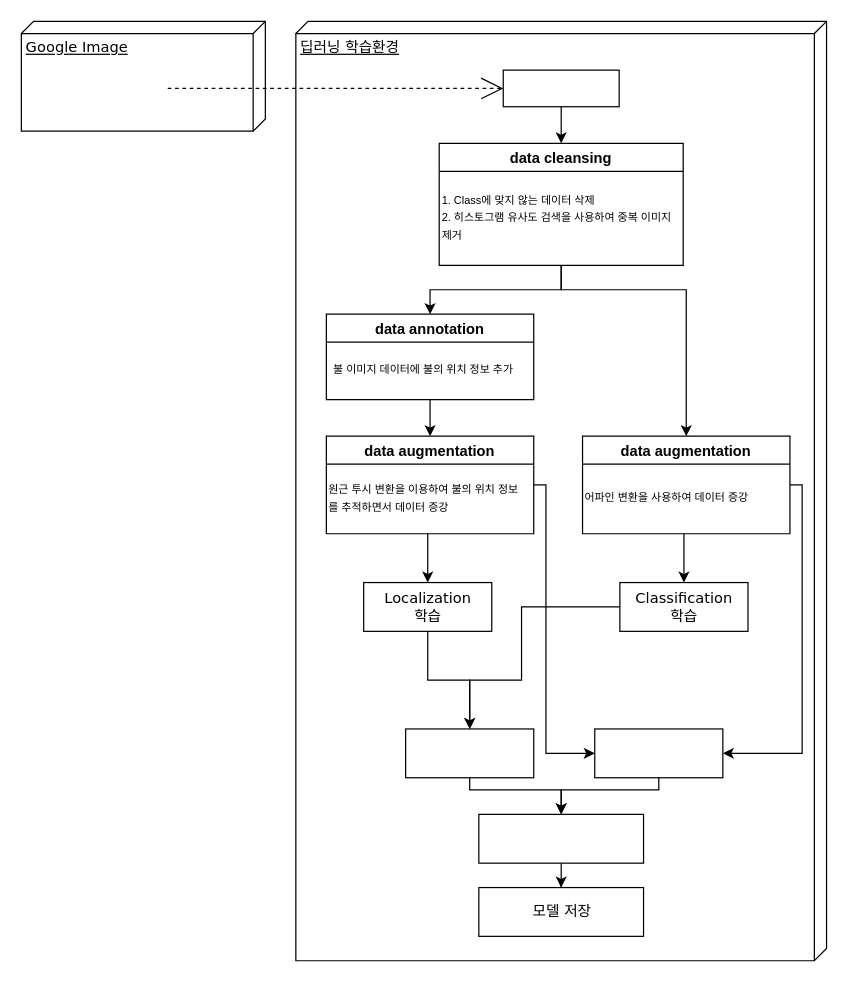
This 848x982 diagram has some shape labels left out. The centre of each missing label's shape, as x and y in pixels:
CNN 모델링: point 469,753
CNN 학습및 테스트: point 561,838
image crawling: point 560,88
데이터셋: point 658,753
